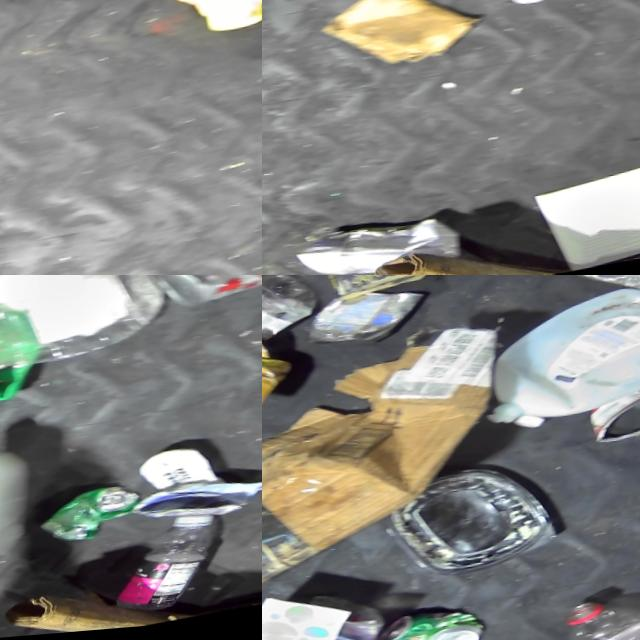can: (299, 282, 428, 358), (32, 480, 142, 557), (152, 275, 262, 322), (370, 606, 481, 640)
milk_jug: (464, 277, 640, 441)
non_white_jug: (144, 0, 262, 49)
plastic_bottle: (0, 275, 164, 391), (105, 514, 225, 621), (262, 275, 316, 388), (554, 585, 640, 640)
